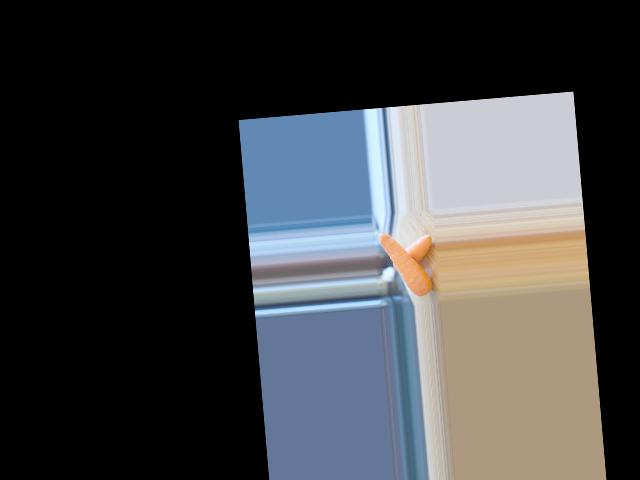carrot: (391, 236, 434, 273)
